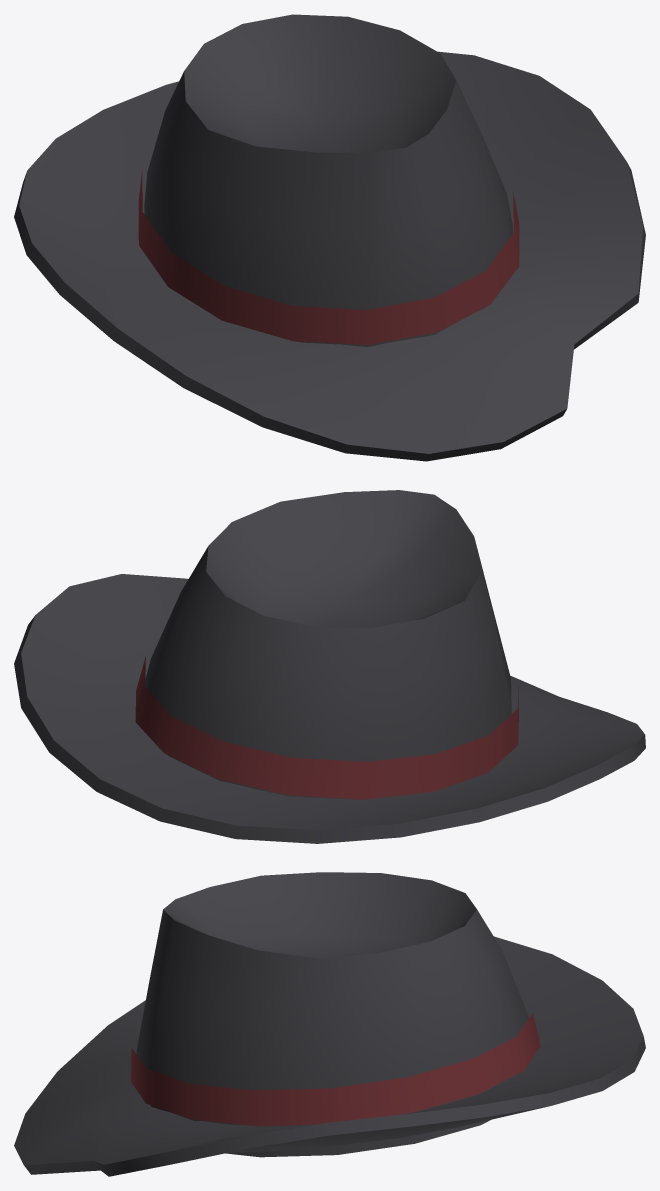
File: hat.glb
3 views of the same model, one above another, from view 1: azimuth 30°, elevation 25°; view 2: azimuth 150°, elevation 25°; view 3: azimuth 270°, elevation 25° (orthographic). The views are drawn at different scales.
Visible parts, largest first — view 1: hat; view 2: hat; view 3: hat.
Boxes of the visible parts, x1,y1,x2,y2 form: hat: (14,14,645,461); hat: (14,490,645,843); hat: (14,872,645,1176).
Size of the model in its own units: 0.4469 by 0.2065 by 0.4852.
